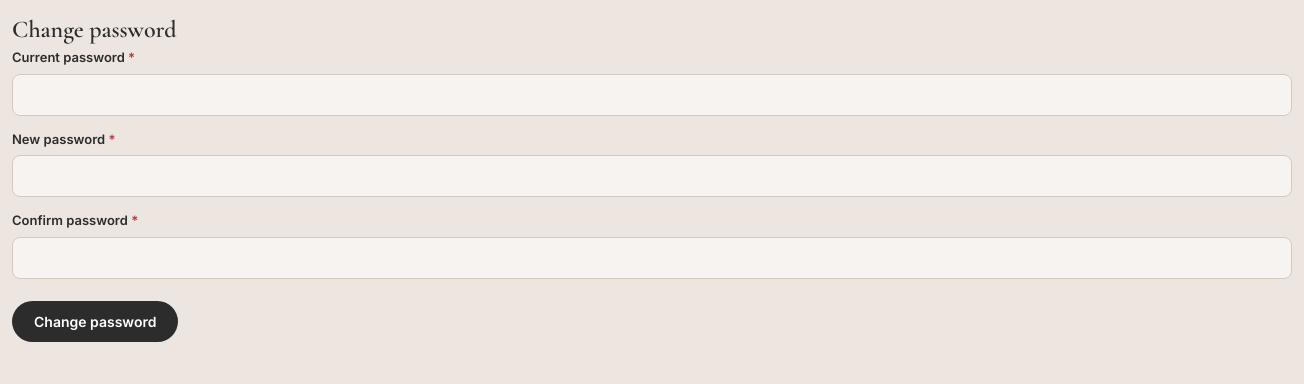
Scenario: ChangePasswordForm › maps a wrong current password to an inline error
Type "password" into the password field labelled "Current password" at (652, 94), box [12,74,1292,116]
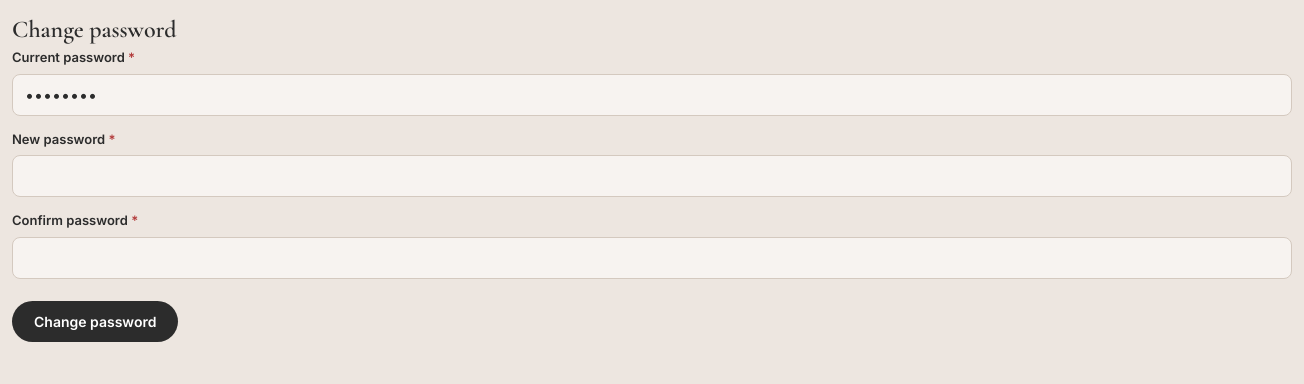
Type "newpassword" into the password field labelled "New password" at (652, 176), box [12,155,1292,197]
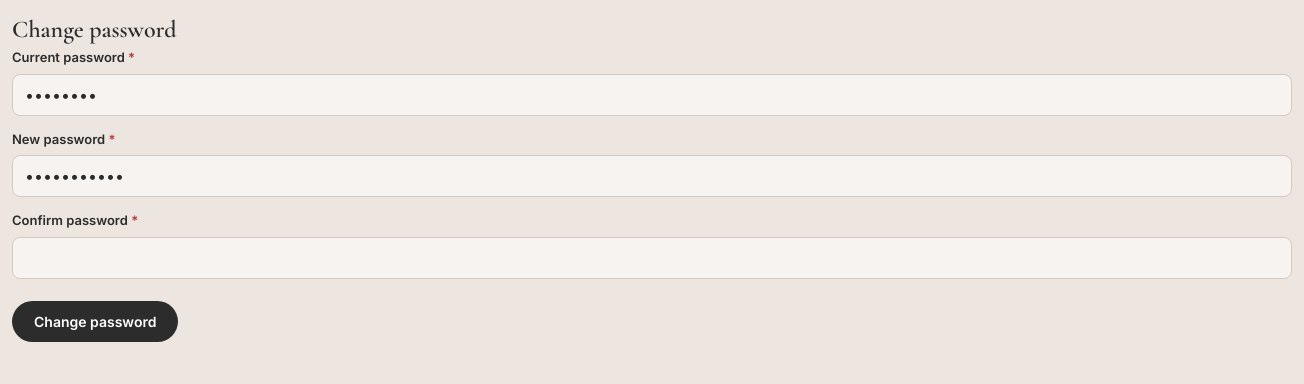
Type "newpassword" into the password field labelled "Confirm password" at (652, 258), box [12,236,1292,278]
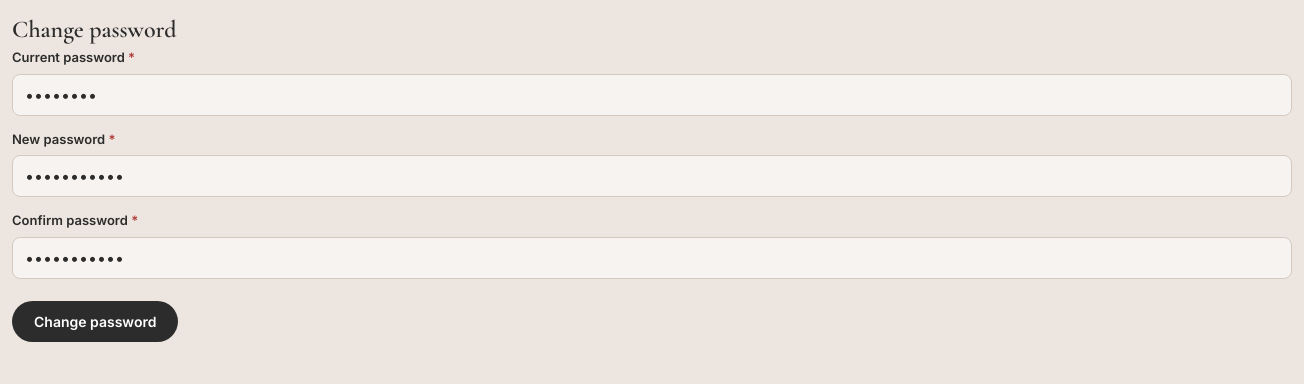
Click the button "Change password" at (95, 321), box [12,300,178,342]
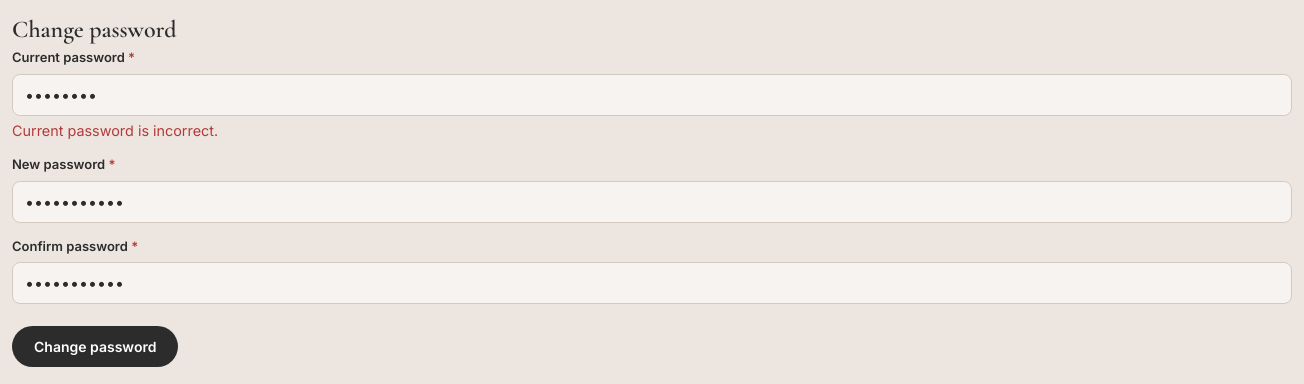
Now the text "Current password is incorrect." is shown, box [12,122,218,138]
